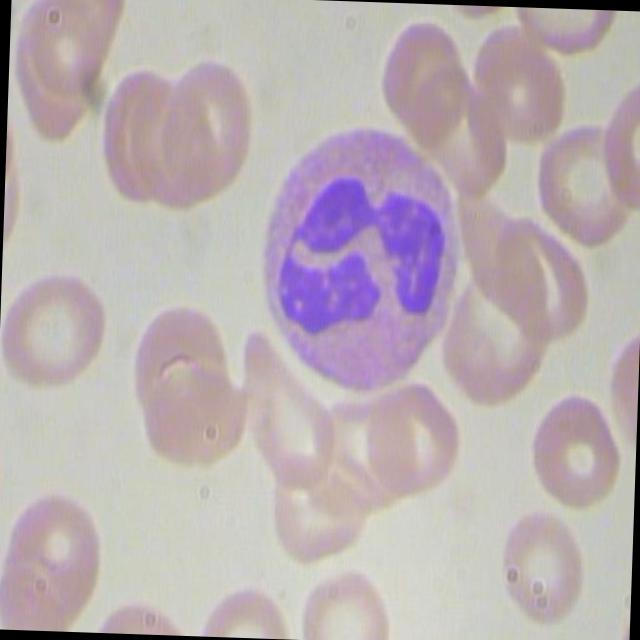RBC: (235, 328, 342, 490), (156, 45, 260, 204), (2, 481, 112, 621), (489, 206, 597, 346), (137, 344, 256, 468), (0, 263, 112, 391), (532, 117, 638, 252), (490, 497, 596, 631), (363, 367, 466, 501), (468, 19, 572, 148), (526, 385, 626, 516), (370, 14, 470, 129)
WBC: (249, 112, 473, 402)
